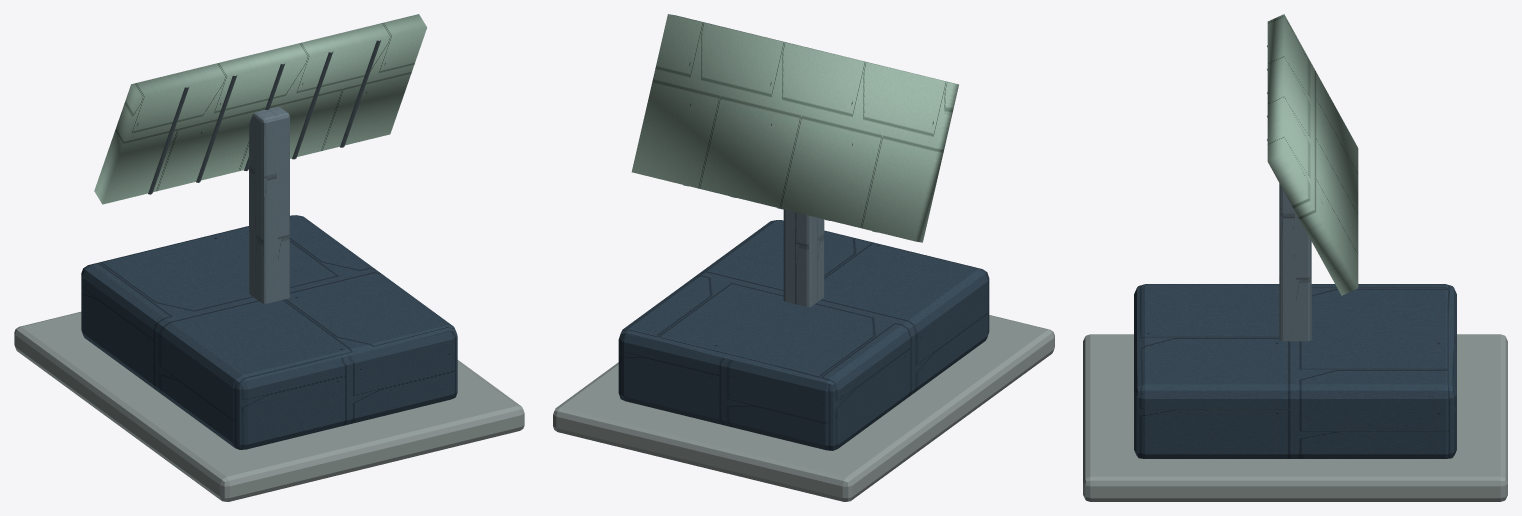
The model's file is radar-high.glb.
3 views of the same model, side by side, from view 1: azimuth 30°, elevation 25°; view 2: azimuth 150°, elevation 25°; view 3: azimuth 270°, elevation 25° (orthographic).
Visible parts, largest first — view 1: core-navy-surfaces, core-celadon-surfaces, core-Roof membrane-surfaces, core-titanium-surfaces; view 2: core-navy-surfaces, core-celadon-surfaces, core-Roof membrane-surfaces, core-titanium-surfaces; view 3: core-navy-surfaces, core-Roof membrane-surfaces, core-celadon-surfaces, core-titanium-surfaces.
Part boxes in pixels (bbox=[...]): core-navy-surfaces: bbox=[81, 215, 457, 449]; core-celadon-surfaces: bbox=[94, 14, 427, 204]; core-Roof membrane-surfaces: bbox=[14, 312, 524, 501]; core-titanium-surfaces: bbox=[148, 40, 380, 303]; core-navy-surfaces: bbox=[618, 220, 989, 450]; core-celadon-surfaces: bbox=[631, 14, 958, 242]; core-Roof membrane-surfaces: bbox=[553, 315, 1054, 501]; core-titanium-surfaces: bbox=[683, 185, 877, 306]; core-navy-surfaces: bbox=[1134, 284, 1456, 458]; core-Roof membrane-surfaces: bbox=[1083, 334, 1507, 501]; core-celadon-surfaces: bbox=[1267, 14, 1358, 295]; core-titanium-surfaces: bbox=[1267, 45, 1311, 341].
Bounding box in the file's own units: 3.8 × 4.14 × 4.6.
4 materials, 3 textured.
